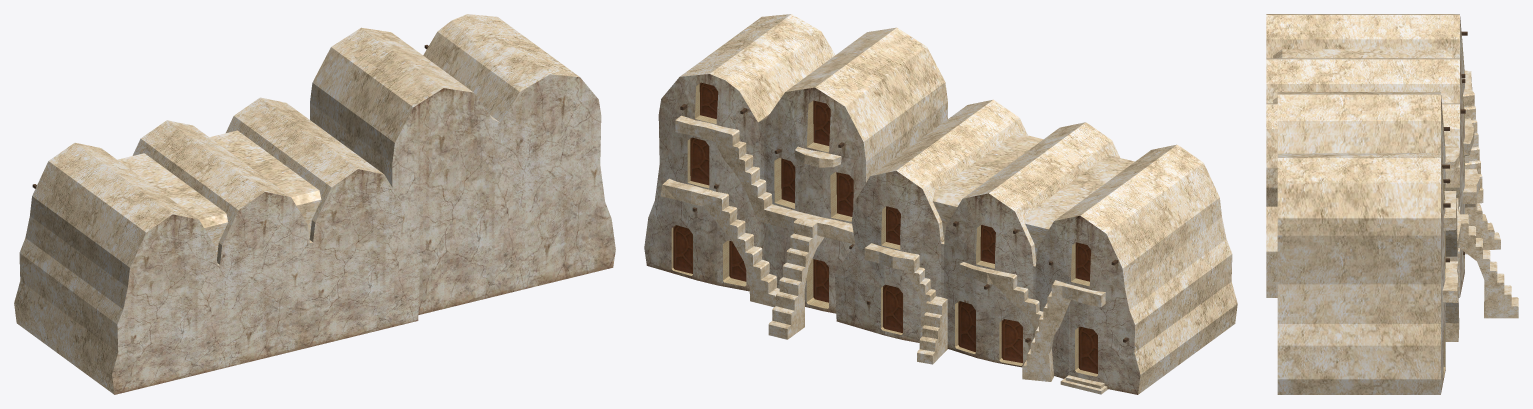
The model's file is thm_tato_block_bldg_32x16_s03_l1.fbx.
The picture shows the model from 3 angles, left to right: view 1: azimuth 30°, elevation 25°; view 2: azimuth 150°, elevation 25°; view 3: azimuth 270°, elevation 25°; orthographic projection.
Parts seen in each view (by area): view 1: mesh_node; view 2: mesh_node; view 3: mesh_node.
Part boxes in pixels (x1=…): mesh_node: x1=14, y1=14, x2=615, y2=394; mesh_node: x1=644, y1=14, x2=1237, y2=394; mesh_node: x1=1266, y1=14, x2=1518, y2=394.
Size of the model in its own units: 34.03 by 14.2 by 14.76.
